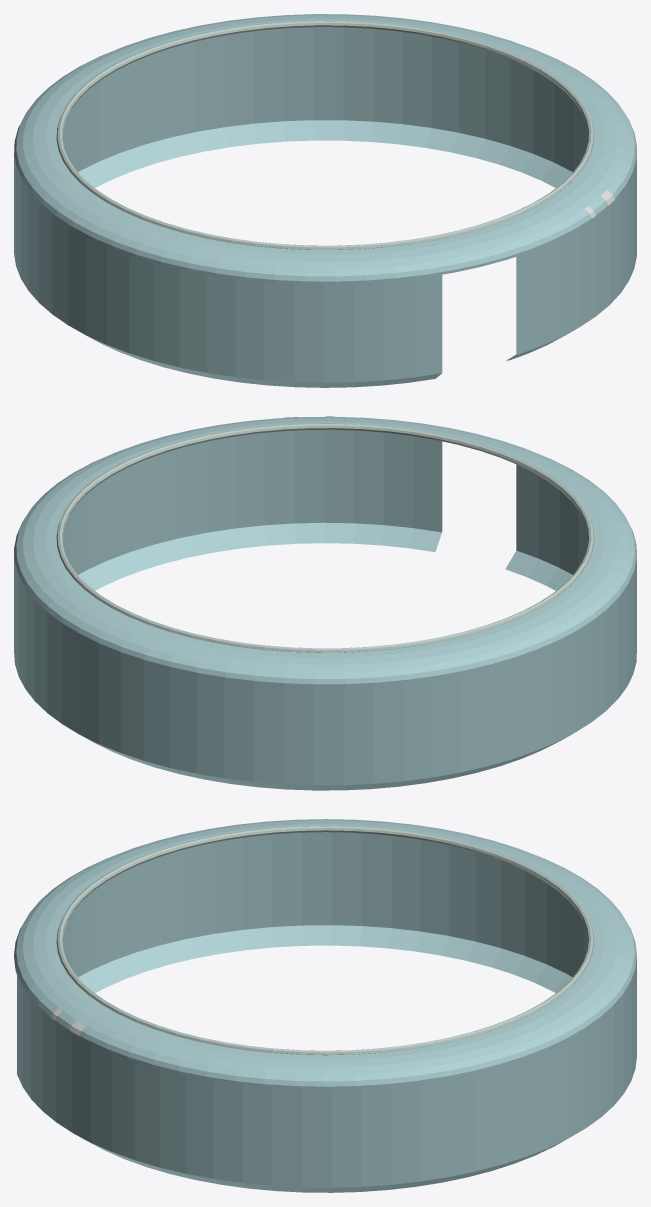
Rendered from goo_jar_glass_1_mid.fbx.
3 views of the same model, one above another, from view 1: azimuth 30°, elevation 25°; view 2: azimuth 150°, elevation 25°; view 3: azimuth 270°, elevation 25° (orthographic).
Parts seen in each view (by area): view 1: goo_jar_glass_1_mid; view 2: goo_jar_glass_1_mid; view 3: goo_jar_glass_1_mid.
Part boxes in pixels (box(x1,y1,x2,y2)): goo_jar_glass_1_mid: box(14, 14, 636, 387); goo_jar_glass_1_mid: box(14, 416, 636, 790); goo_jar_glass_1_mid: box(14, 819, 636, 1192).
Size of the model in its own units: 62 by 14.32 by 62.
